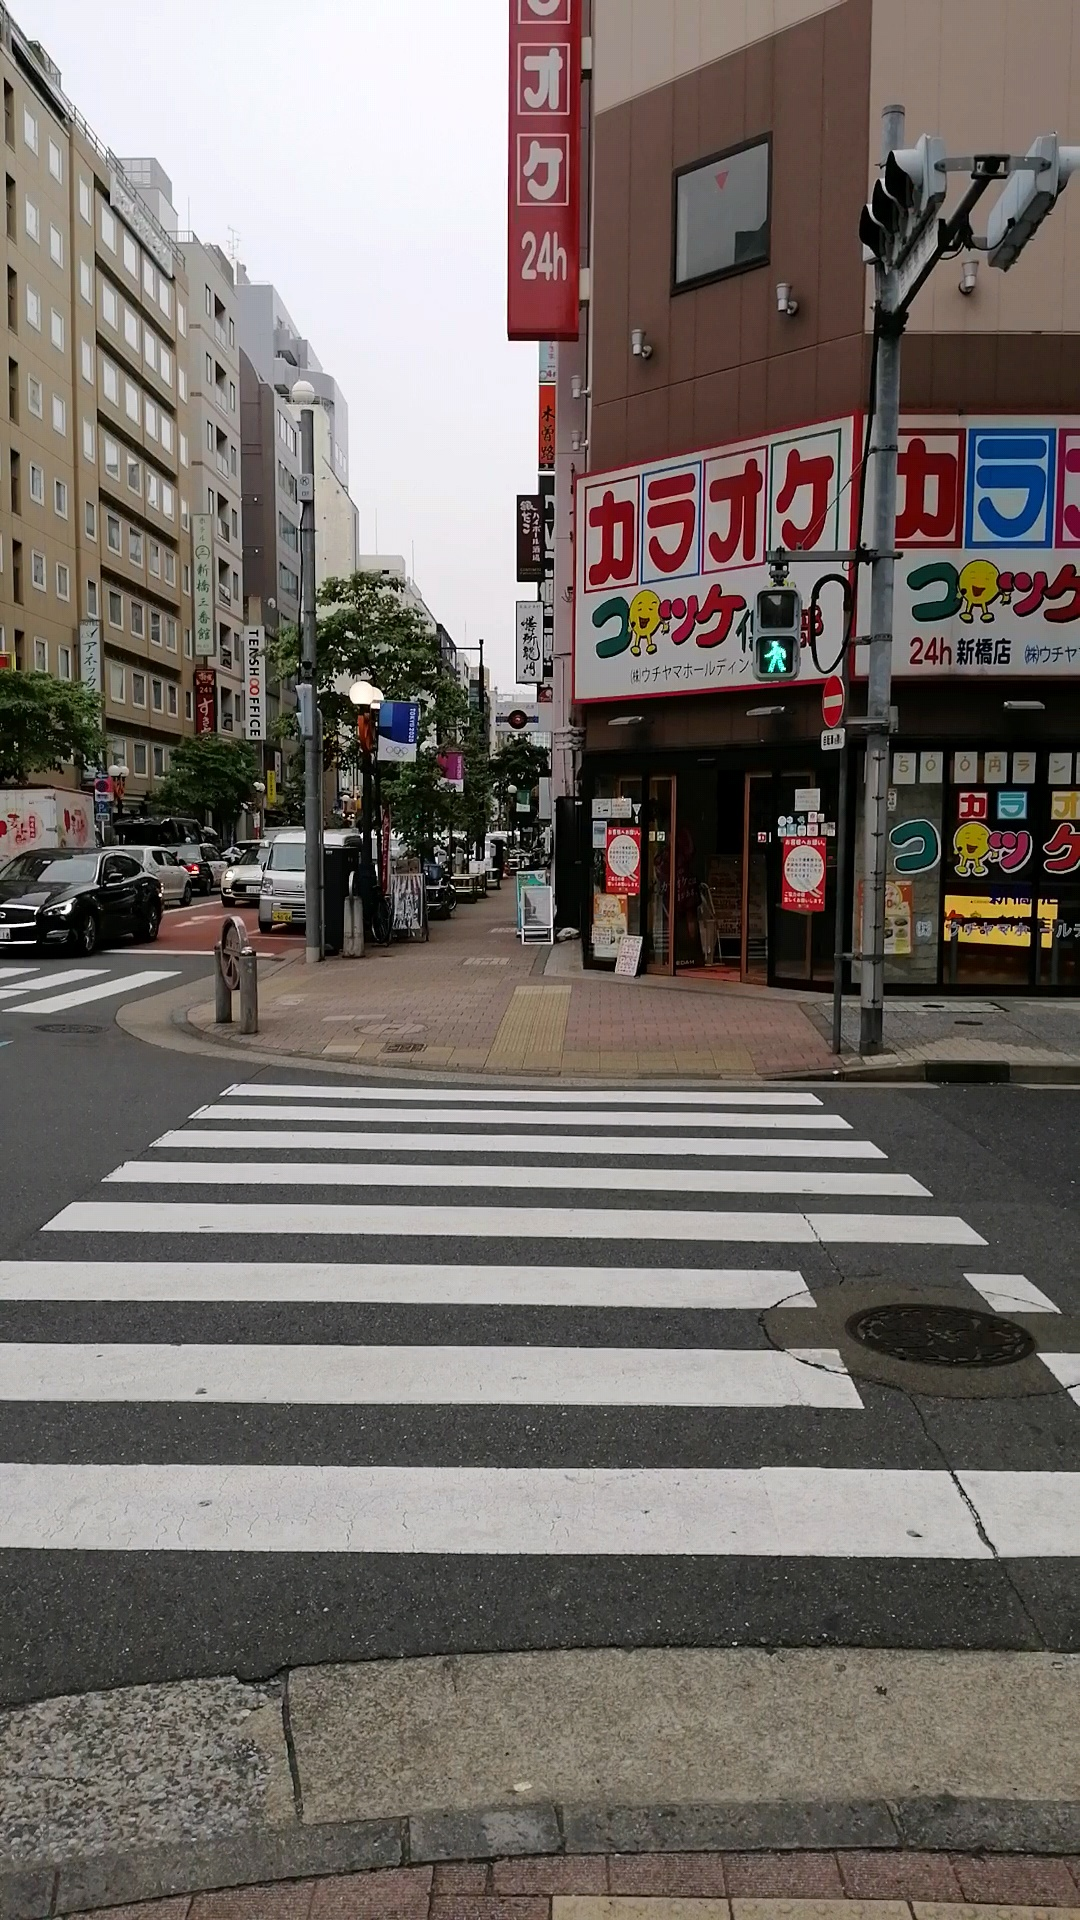green: (752, 589, 800, 680)
